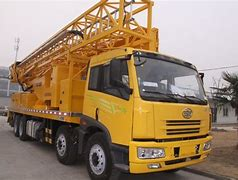specialcar: (9, 13, 217, 174)
